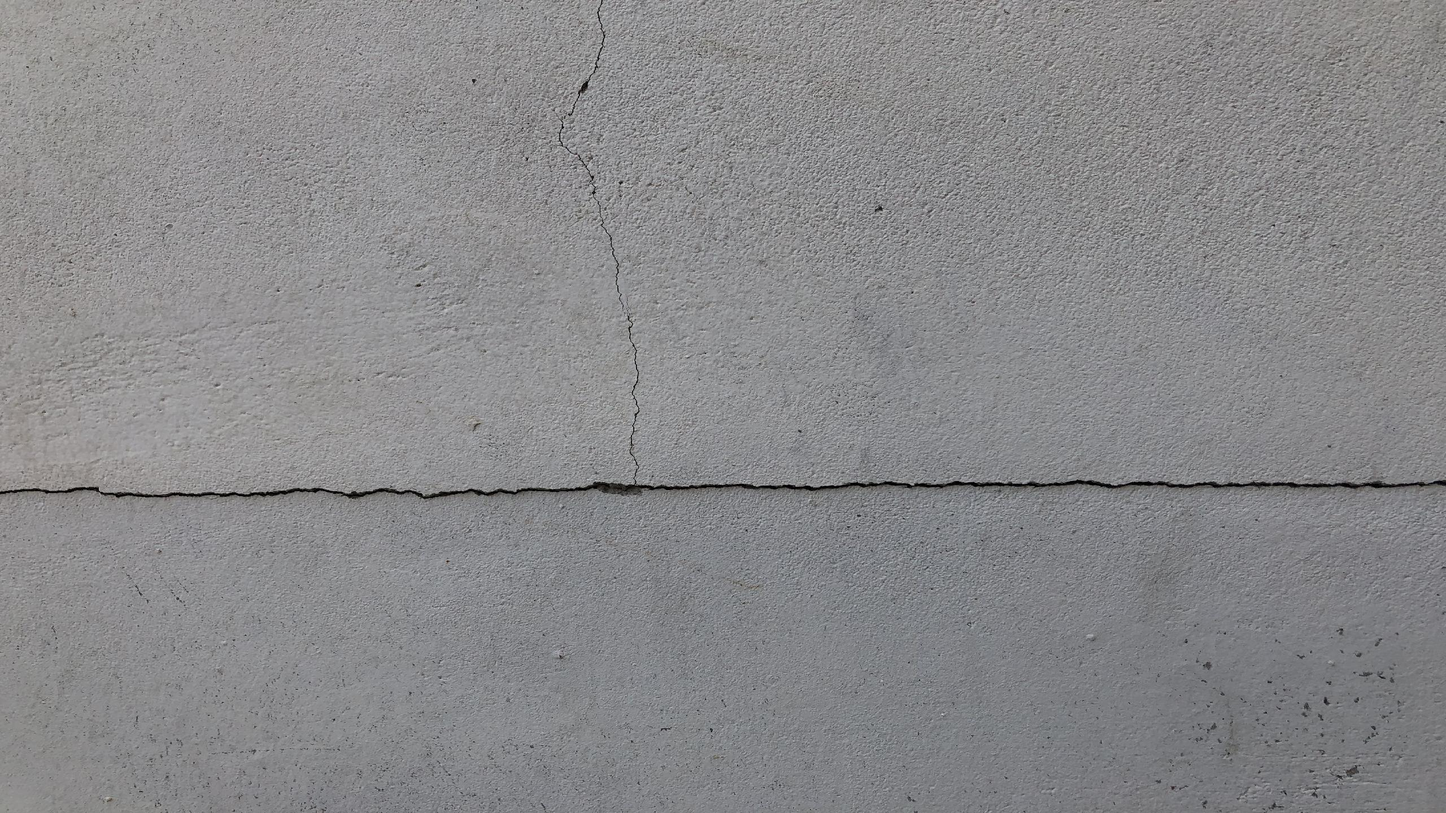crack: (555, 0, 642, 476), (2, 473, 1443, 501)
